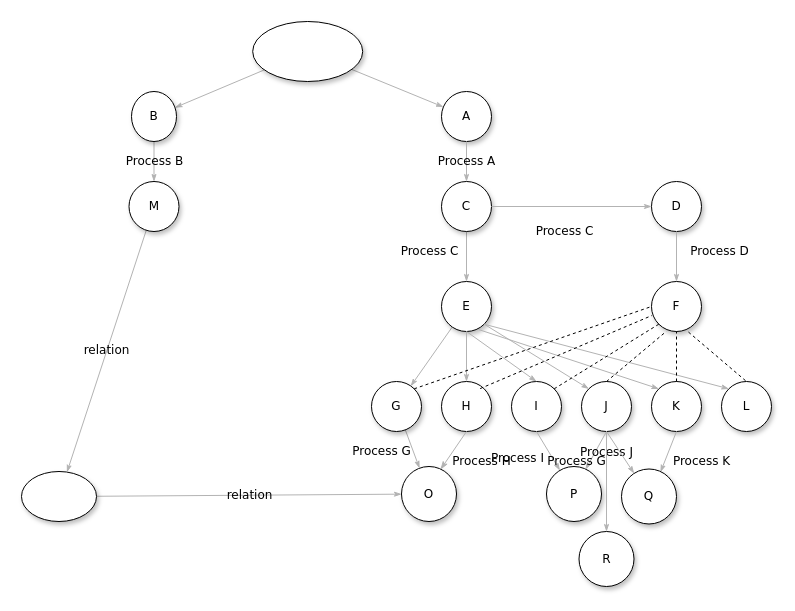
This 795x611 diagram has some shape labels left out. Each missing label, with the centre of its shape:
Node 8: (x=59, y=497)
Start progress: (x=308, y=52)
